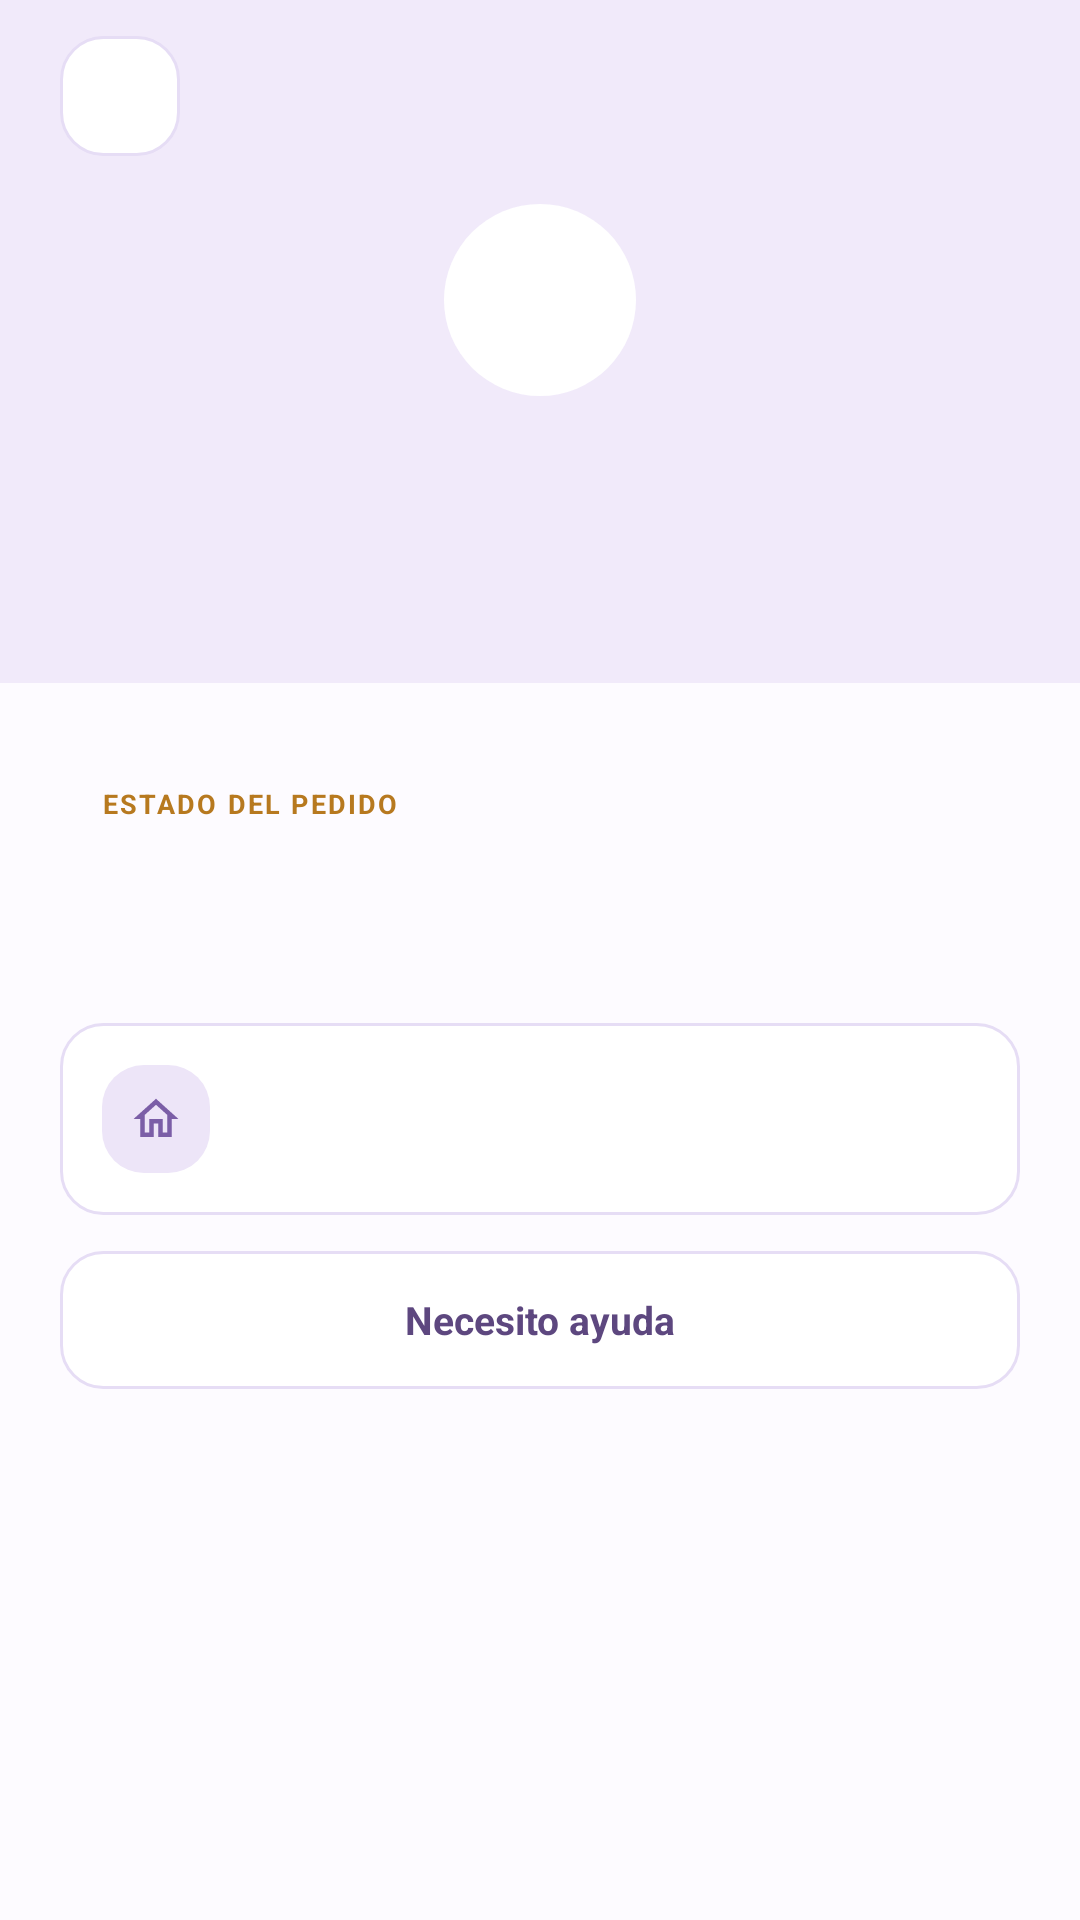

Icons on this 1080 x 1920 Android screen, each with its box as (x1, y1, x2, y2):
home: (134, 1099, 178, 1137)
